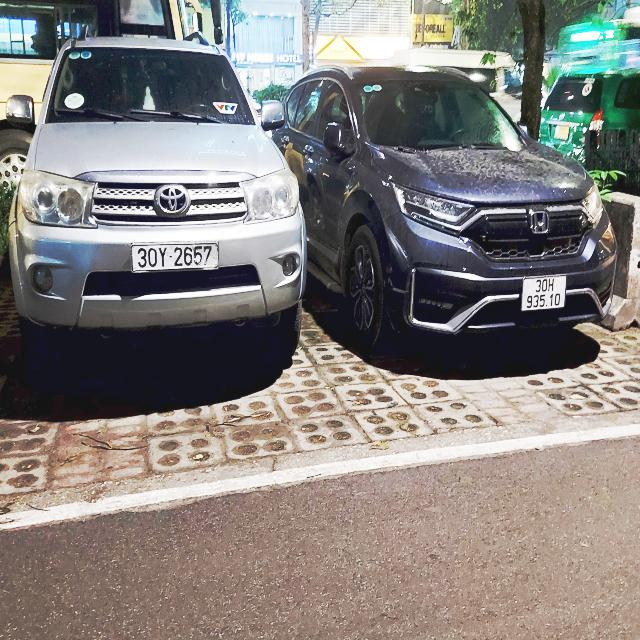license_plate: (129, 239, 224, 278), (520, 273, 571, 315)
